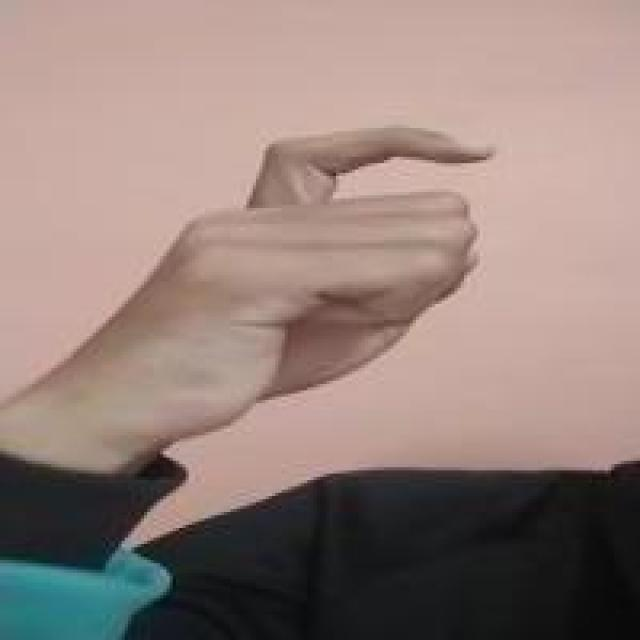X: (95, 120, 498, 411)
